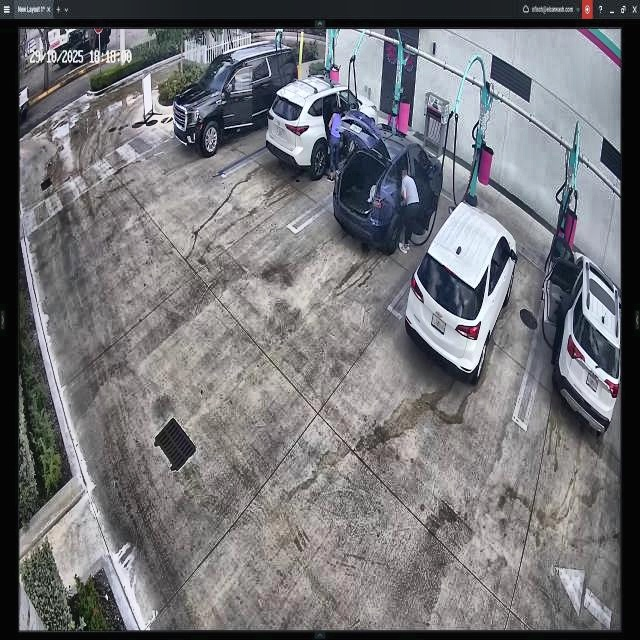Car: (405, 197, 515, 377), (332, 125, 444, 252), (266, 74, 378, 178)
